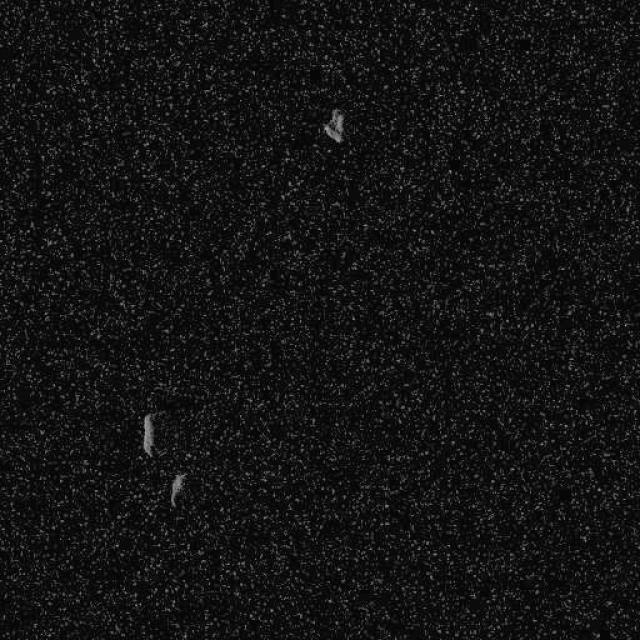D2: (321, 106, 345, 142), (141, 412, 155, 458), (169, 472, 186, 508)
